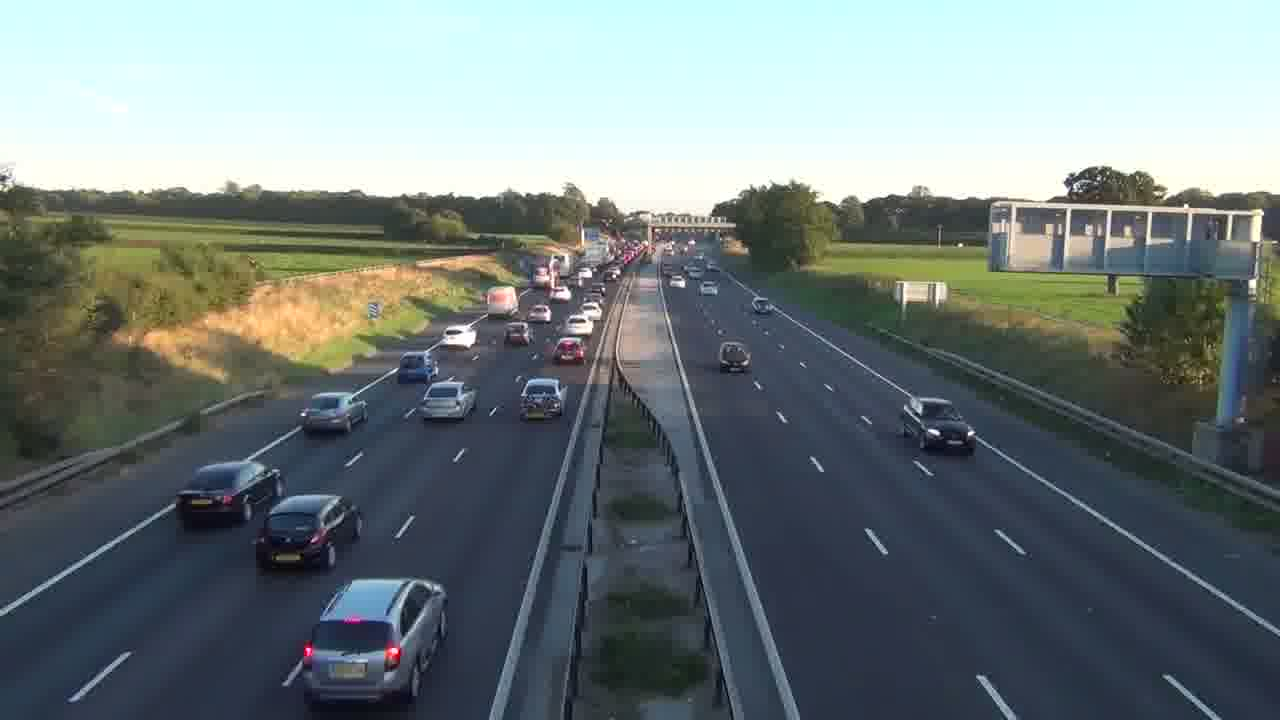car: (300, 576, 449, 707), (254, 492, 365, 571), (176, 459, 283, 528), (899, 396, 977, 454), (300, 391, 366, 434), (419, 379, 478, 421), (398, 350, 438, 384), (718, 340, 752, 373), (556, 337, 585, 364), (504, 322, 530, 346)
truck: (484, 286, 519, 318)
